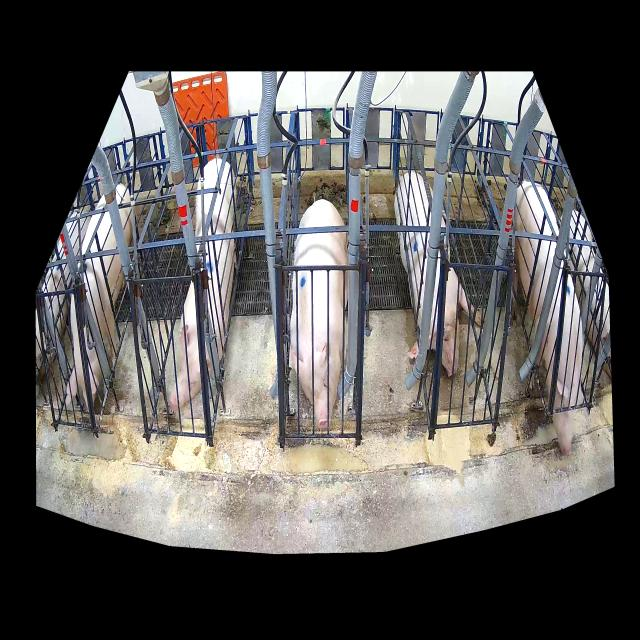pig: (512, 182, 584, 455), (395, 172, 482, 378), (170, 159, 237, 412), (67, 184, 133, 407), (290, 199, 348, 430)
